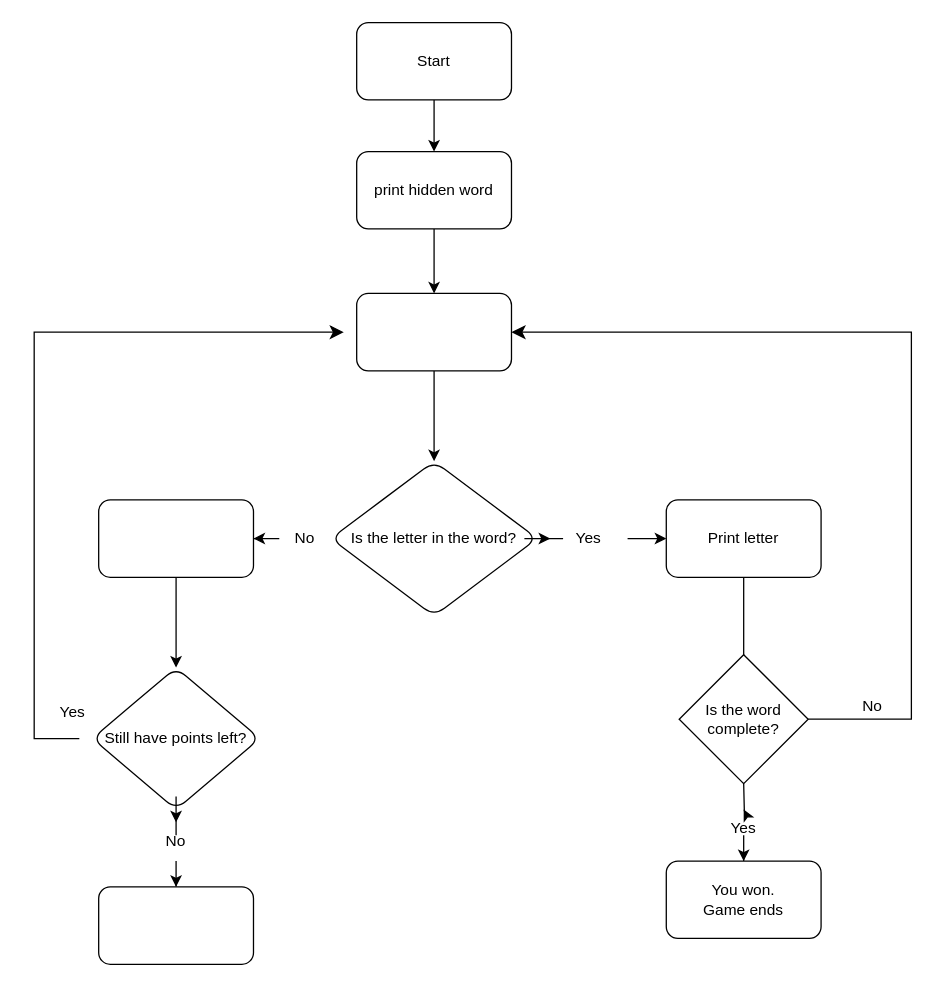
This 947x987 diagram has some shape labels left out. Here are the shapes that lost their labels. From the top down, the box of each, then its label:
(355, 292, 511, 371): Guess letters of word one letter at a time
(97, 499, 253, 577): Print Hangman. Deduct points
(97, 886, 253, 964): You lost. Game ends
